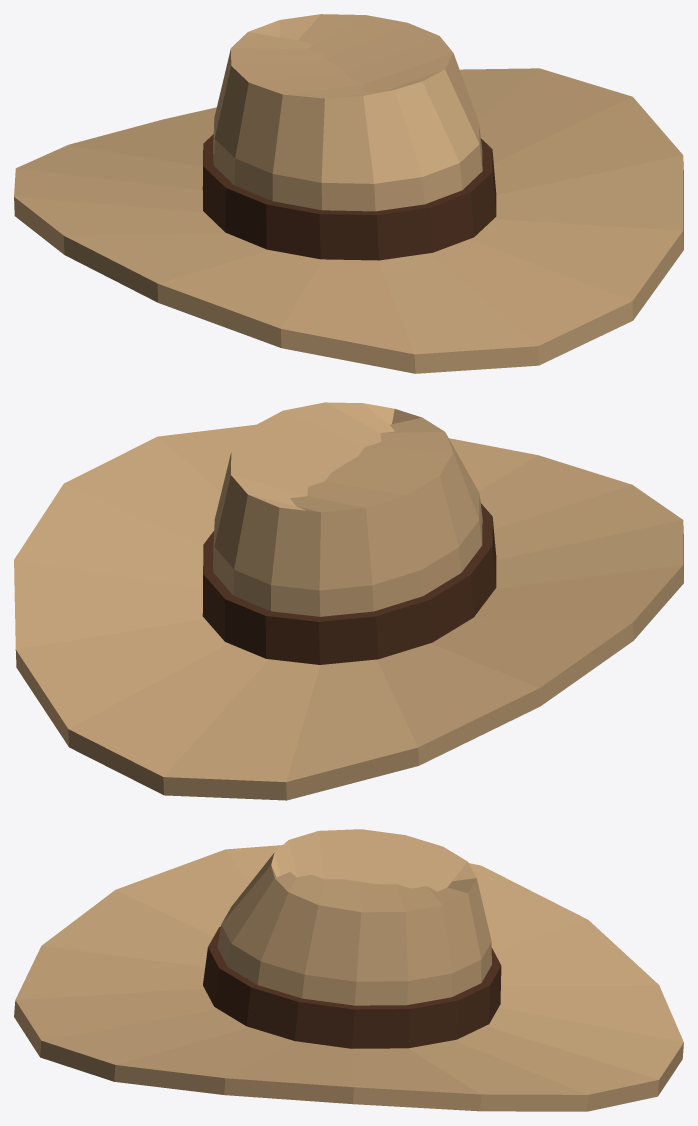
File: SM_Hat_Rifleman.fbx
3 views of the same model, one above another, from view 1: azimuth 30°, elevation 25°; view 2: azimuth 150°, elevation 25°; view 3: azimuth 270°, elevation 25° (orthographic). The views are drawn at different scales.
Visible parts, largest first — view 1: Prop_Hat_Rifleman; view 2: Prop_Hat_Rifleman; view 3: Prop_Hat_Rifleman.
Part boxes in pixels (<box>): Prop_Hat_Rifleman: <box>14,14,683,373</box>; Prop_Hat_Rifleman: <box>14,402,683,800</box>; Prop_Hat_Rifleman: <box>14,829,683,1111</box>.
Bounding box in the file's own units: 51.04 × 58.34 × 18.67.
